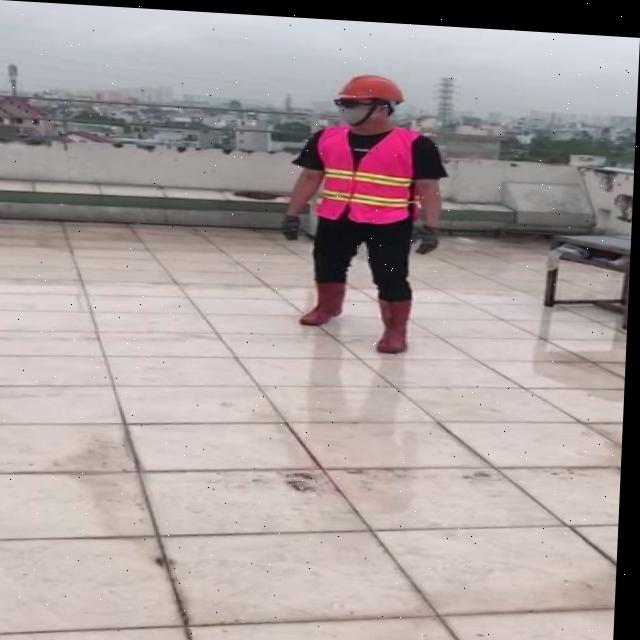Gloves: (416, 219, 441, 249), (282, 211, 301, 236)
Safety-Boot: (302, 275, 347, 323), (379, 291, 413, 348)
Safety-Vest: (313, 118, 422, 222)
